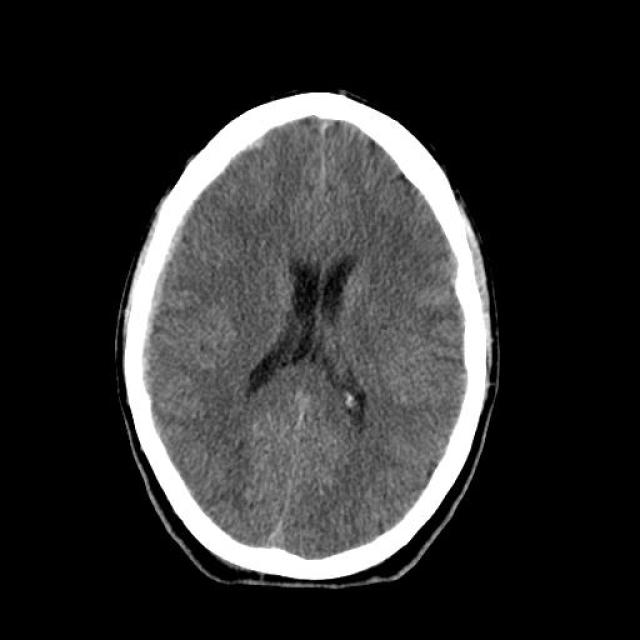Subdural: (110, 182, 208, 404)
